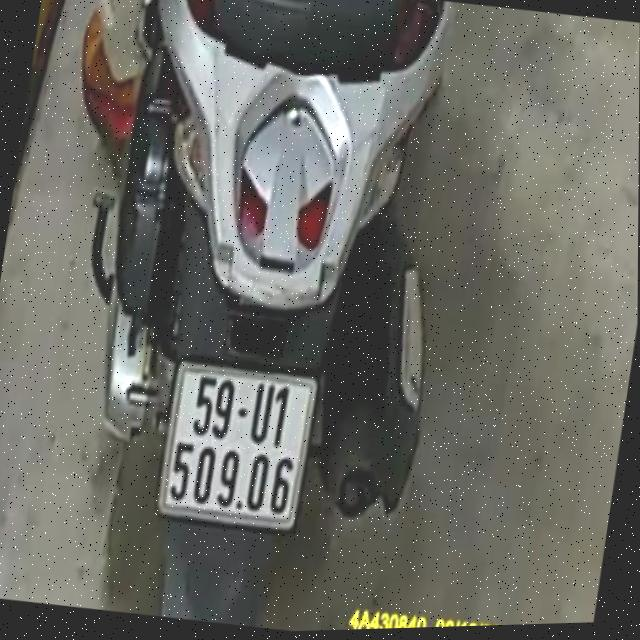motorcycle: (46, 0, 491, 625)
plate: (149, 358, 321, 535)
